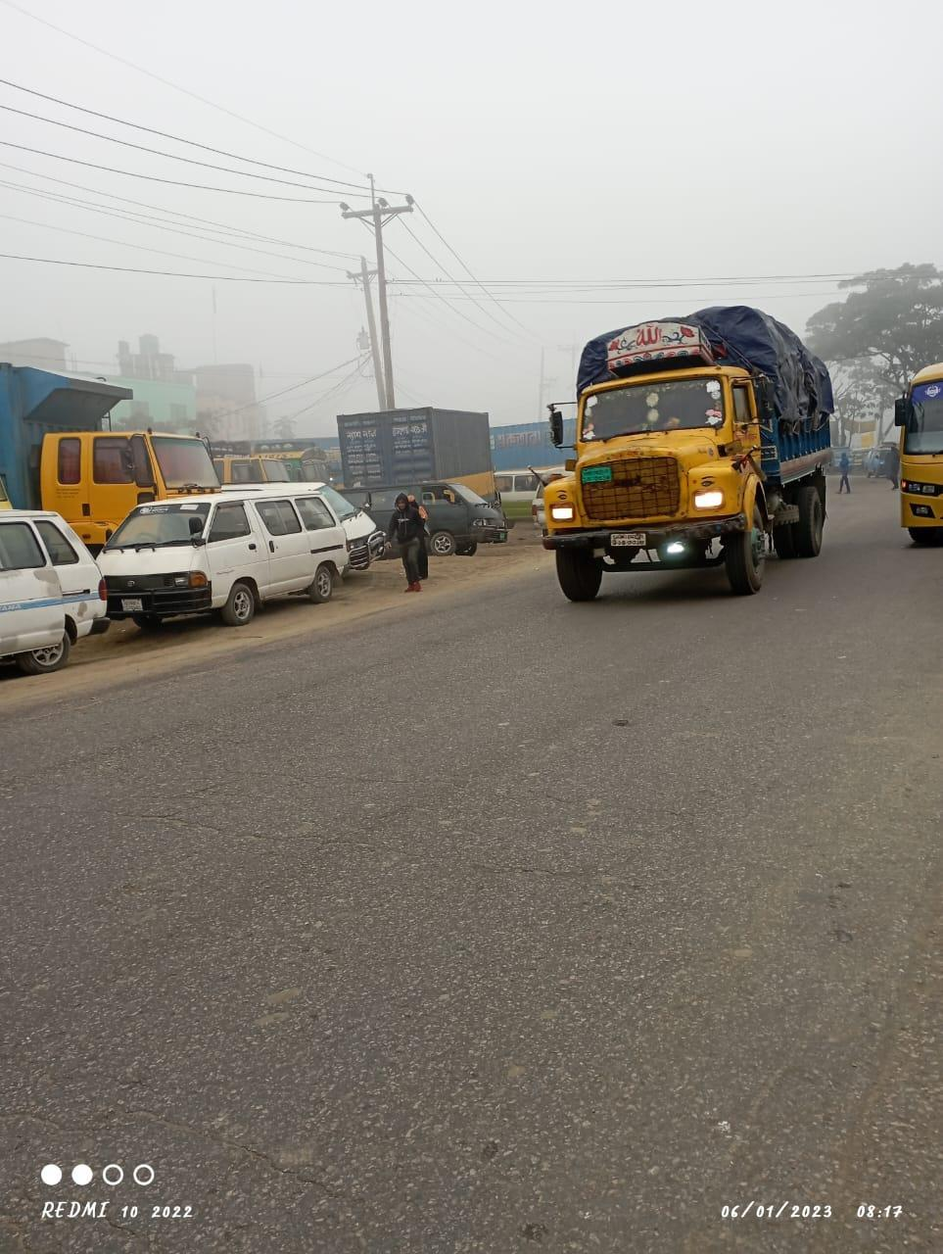Bus: (895, 362, 943, 555)
Car: (98, 482, 357, 616), (369, 475, 515, 557)
Truck: (518, 302, 852, 588), (337, 403, 510, 489)
